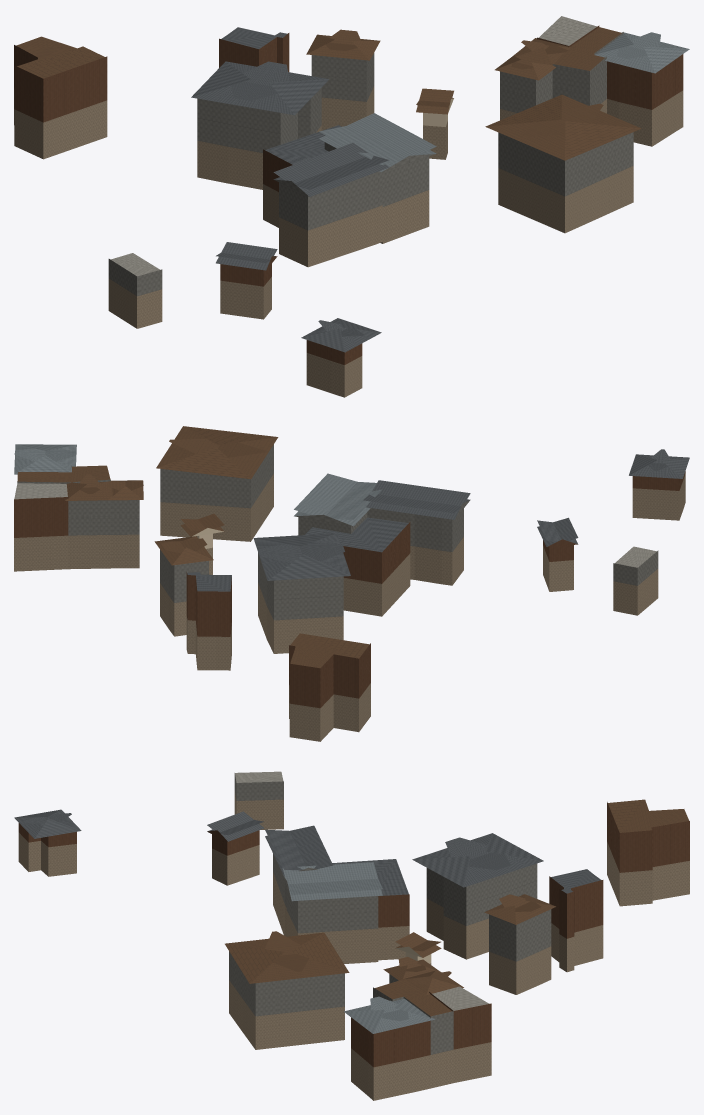
The model's file is bld_c33_45_239.gltf.
The picture shows the model from 3 angles, top to bottom: view 1: azimuth 30°, elevation 25°; view 2: azimuth 150°, elevation 25°; view 3: azimuth 270°, elevation 25°; orthographic projection. The views are drawn at different scales.
Parts seen in each view (by area): view 1: bld_c33_45_239; view 2: bld_c33_45_239; view 3: bld_c33_45_239.
Part boxes in pixels (x1,y1,x2,y2): bld_c33_45_239: [14, 16, 689, 397]; bld_c33_45_239: [14, 426, 689, 741]; bld_c33_45_239: [14, 771, 689, 1100].
Bounding box in the file's own units: 91.65 × 13.4 × 93.3.
Materials: 11 (11 with a texture image).
